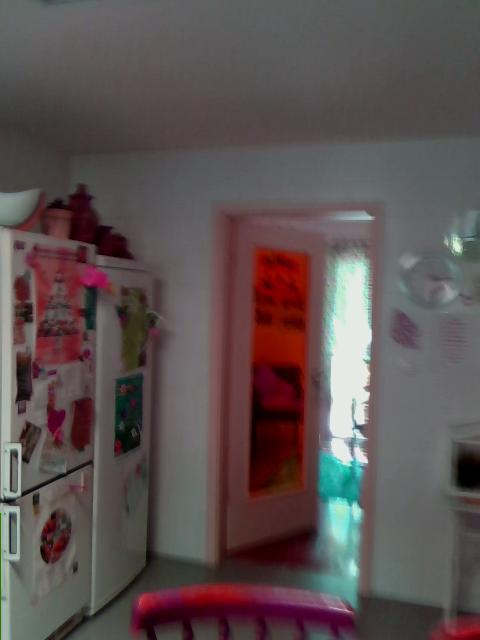semi_door: (204, 195, 374, 593)
